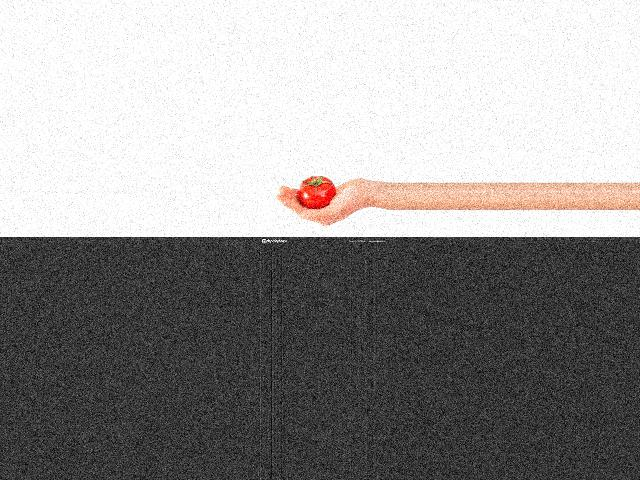tomato: (300, 176, 336, 208)
